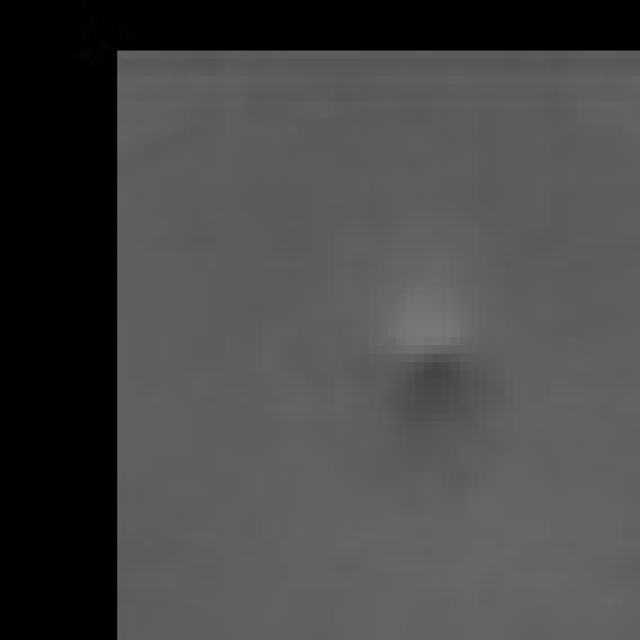Defect1: (291, 223, 574, 489)
